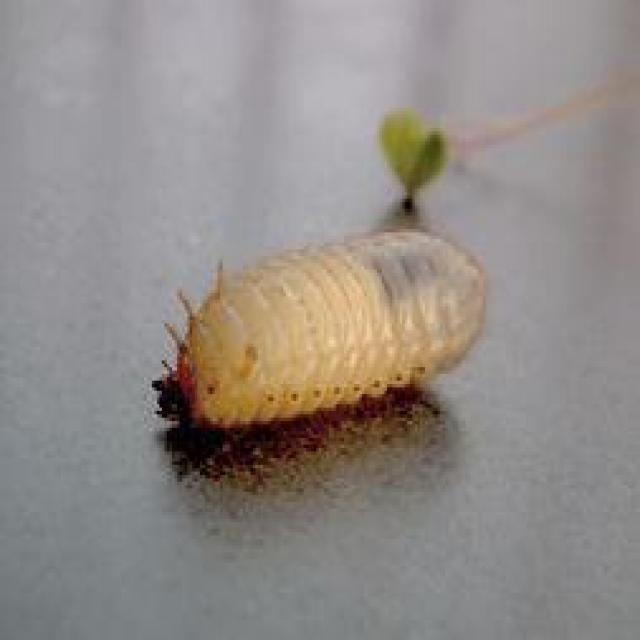Grub-Adult-: (142, 213, 510, 443)
